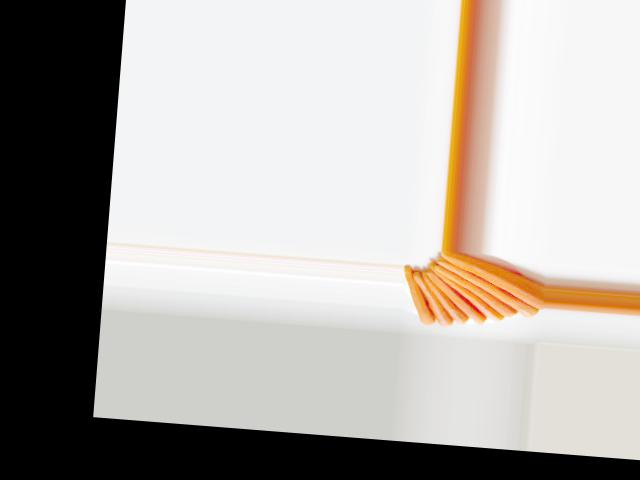carrot: (439, 252, 547, 307)
